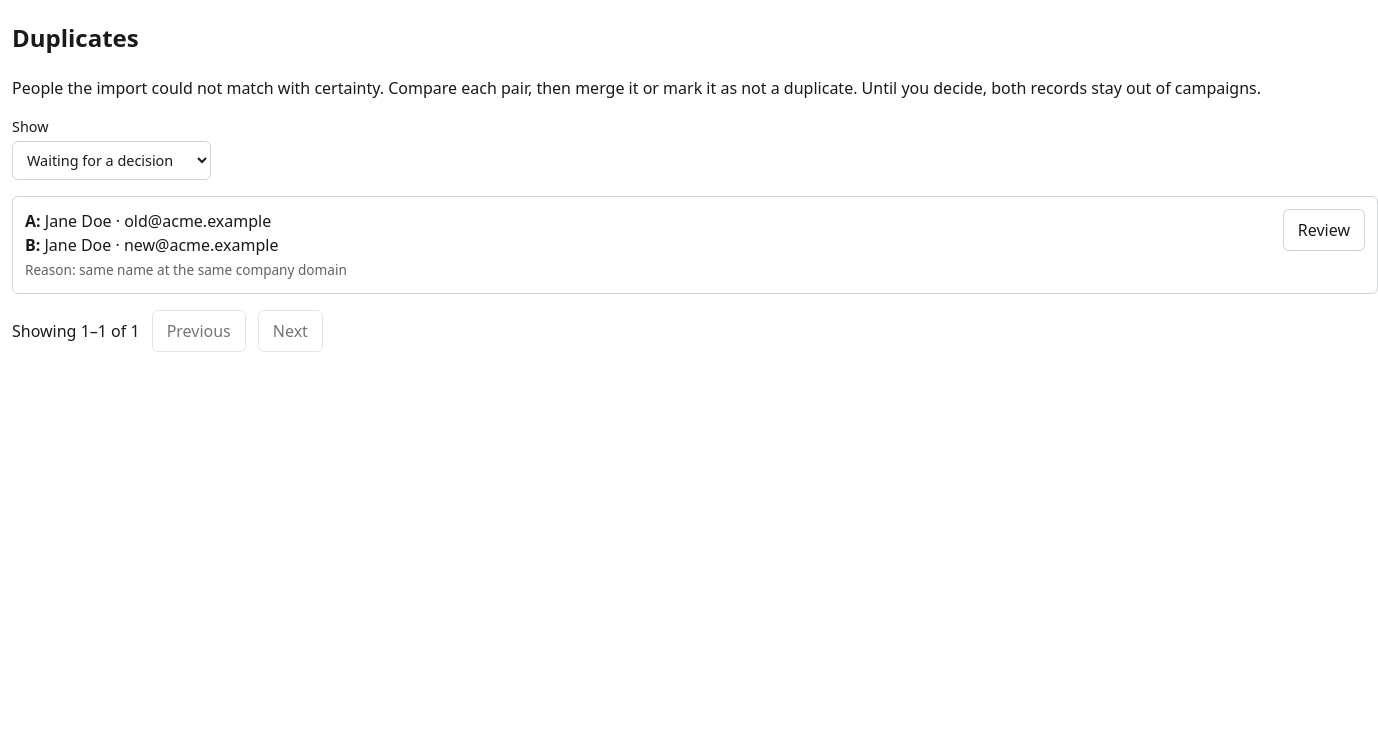
compare and merge › choosing the other record fills that value
expect the text "Jane Doe · old@acme.example" is shown: met, box [45, 210, 271, 232]
Click the button with aria-label "Review Jane Doe": (1324, 230) [1283, 209, 1365, 251]
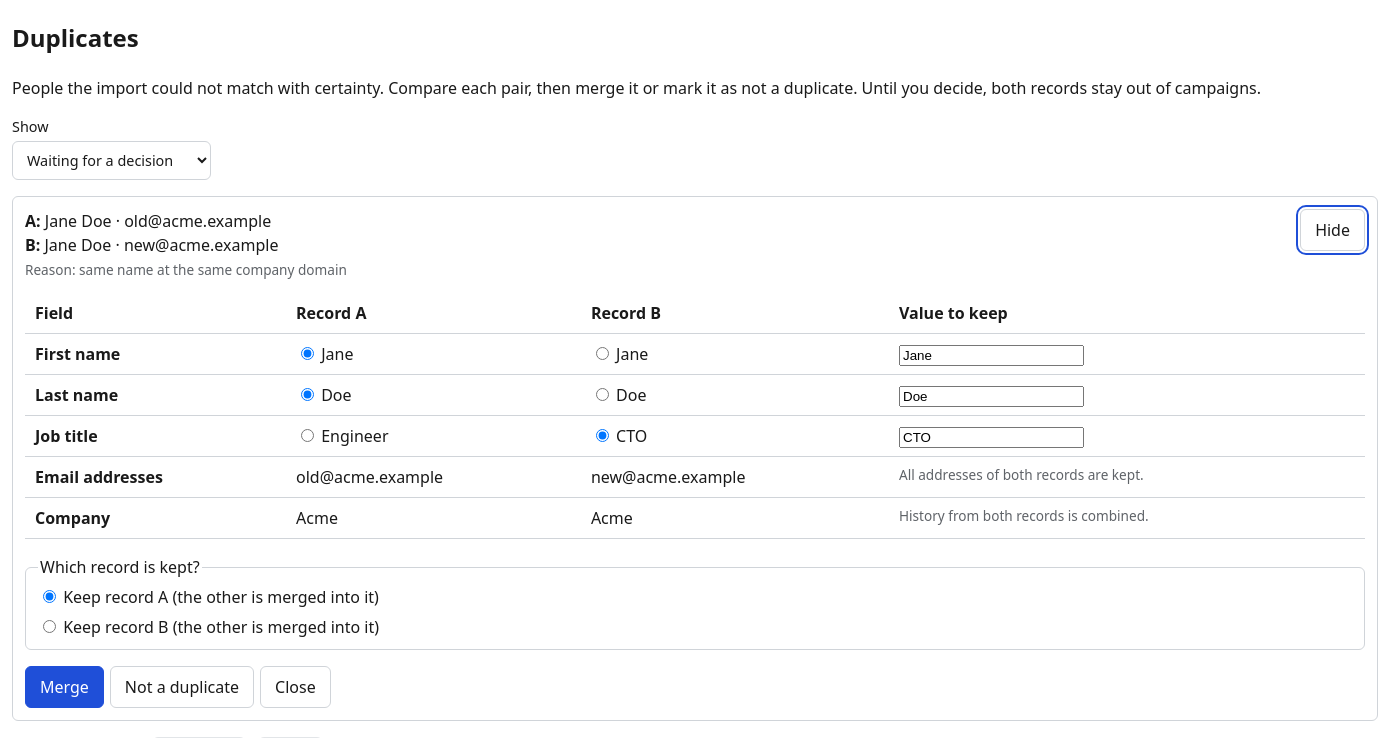
Click the radio button with aria-label "Use record A Job title": (308, 436) [301, 429, 314, 442]
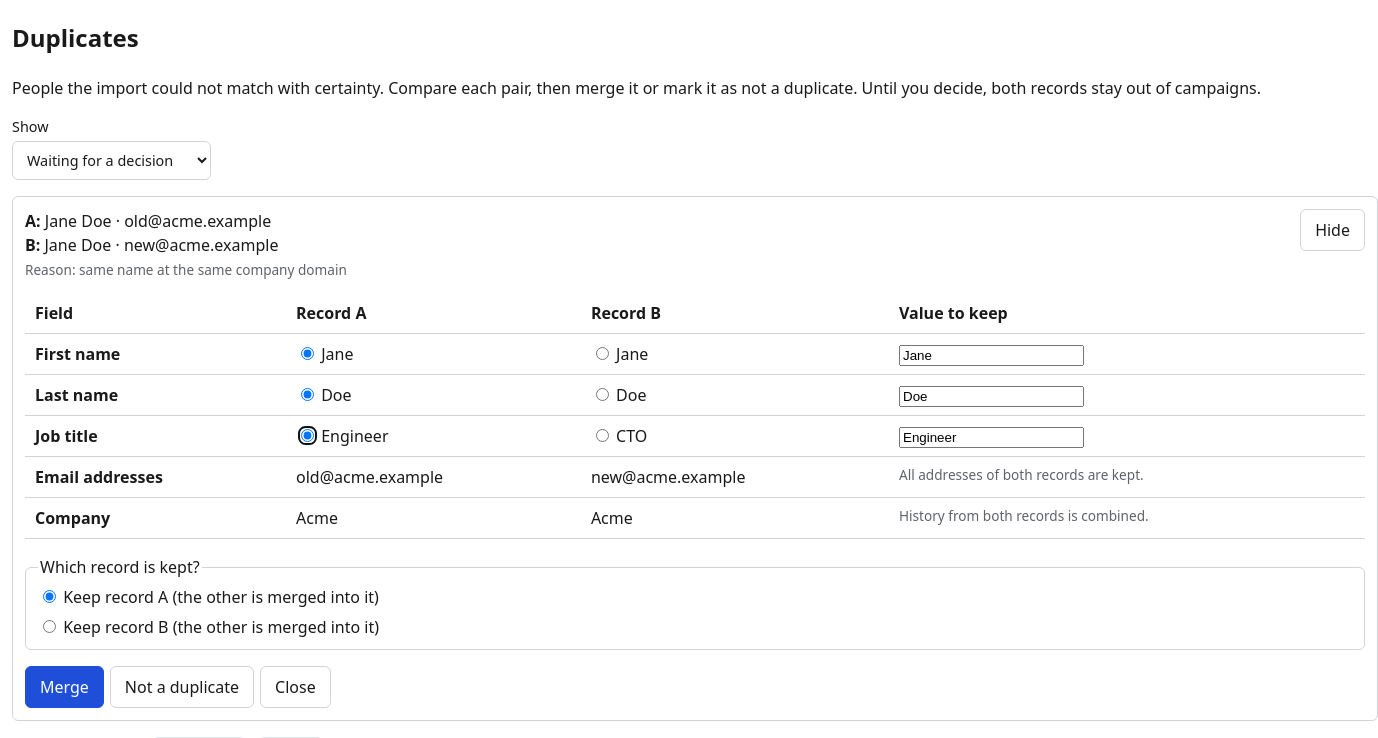
expect the field named "Value to keep for Job title" holds "Engineer": met, box [899, 427, 1084, 448]
